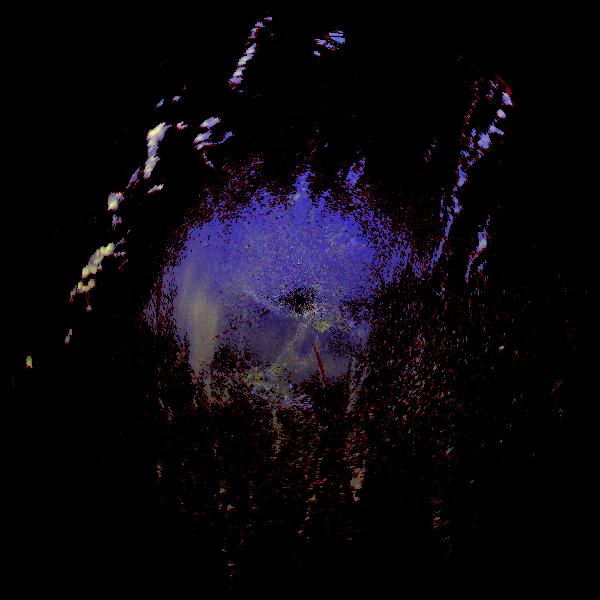roost: (148, 334, 202, 388)
